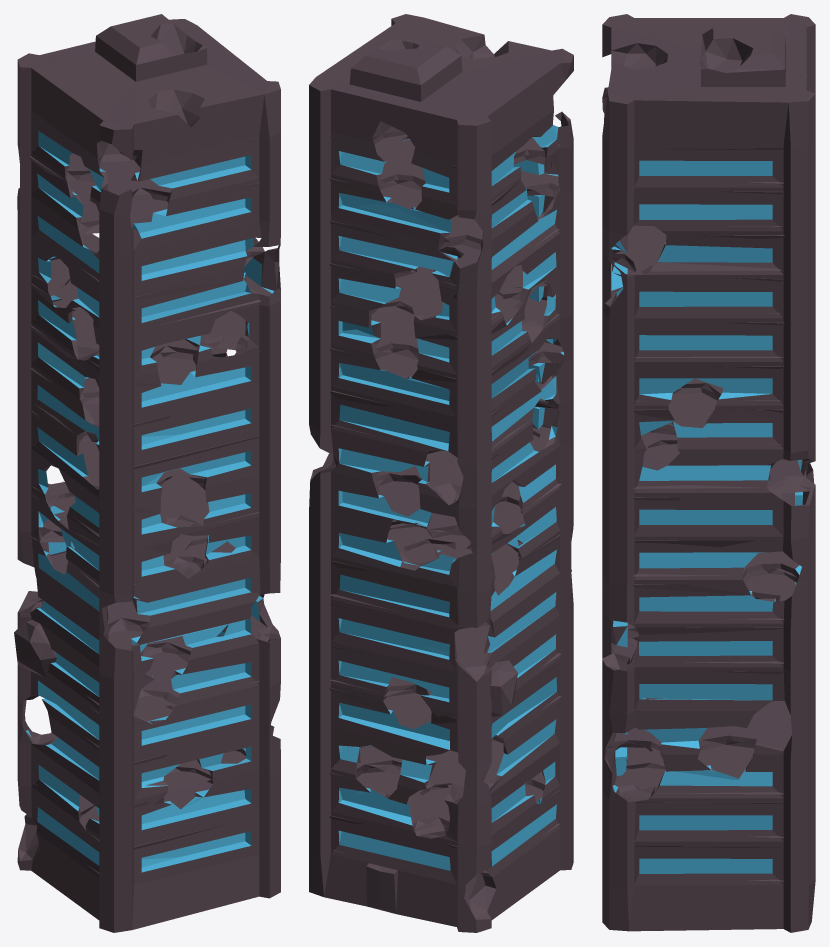
Rendered from buildings6.fbx.
3 renders of one model, left to right at view 1: azimuth 30°, elevation 25°; view 2: azimuth 150°, elevation 25°; view 3: azimuth 270°, elevation 25°, orthographic. The views are drawn at different scales.
Parts seen in each view (by area): view 1: 4; view 2: 4; view 3: 4.
Part boxes in pixels (x1=…): 4: x1=14, y1=14, x2=280, y2=932; 4: x1=309, y1=14, x2=573, y2=932; 4: x1=602, y1=14, x2=815, y2=932.
Size of the model in its own units: 2003 by 8331 by 1884.
